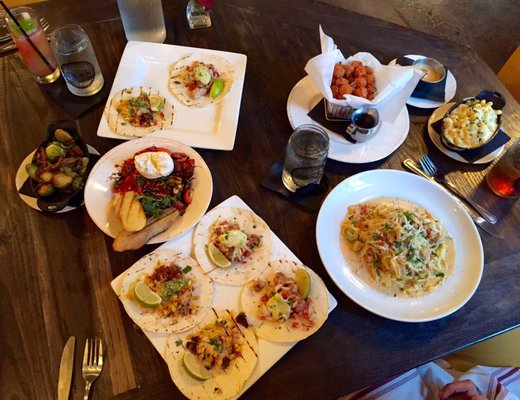pizza: (117, 0, 168, 44)
sandwich: (56, 336, 76, 400)
sushi: (315, 170, 484, 322), (84, 138, 213, 252), (15, 124, 93, 214)
